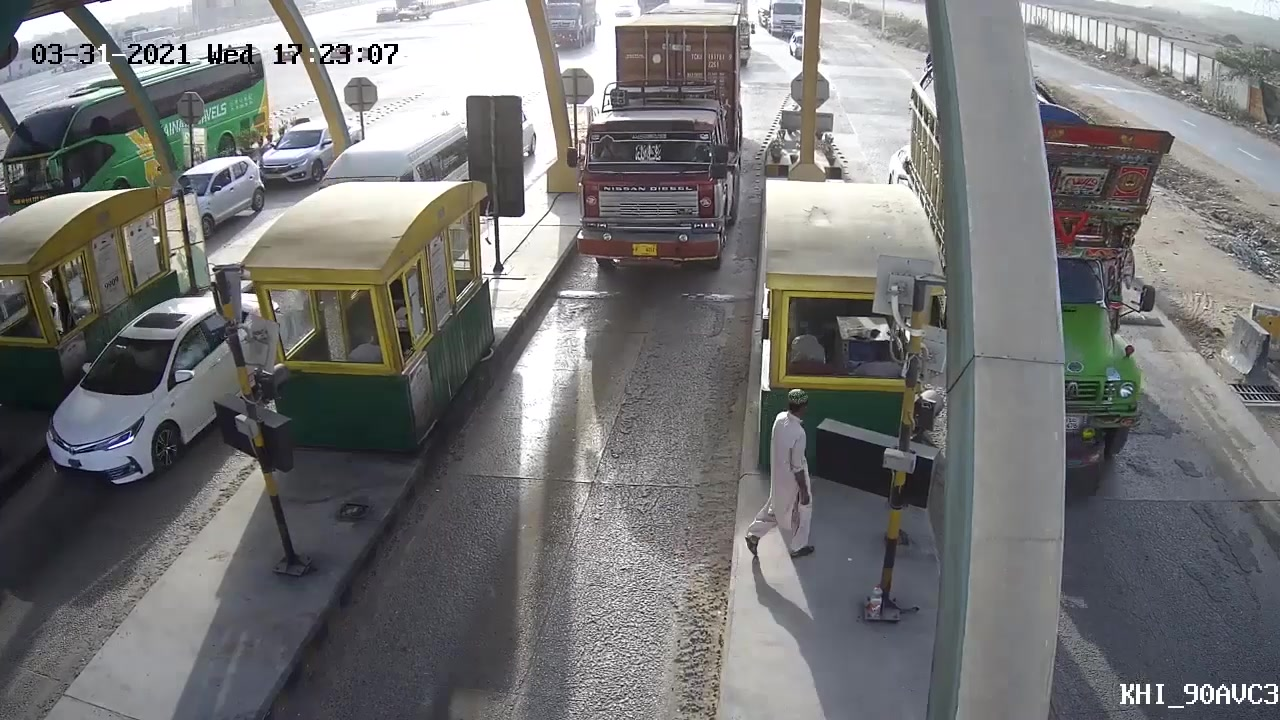F6: (567, 1, 759, 294)
